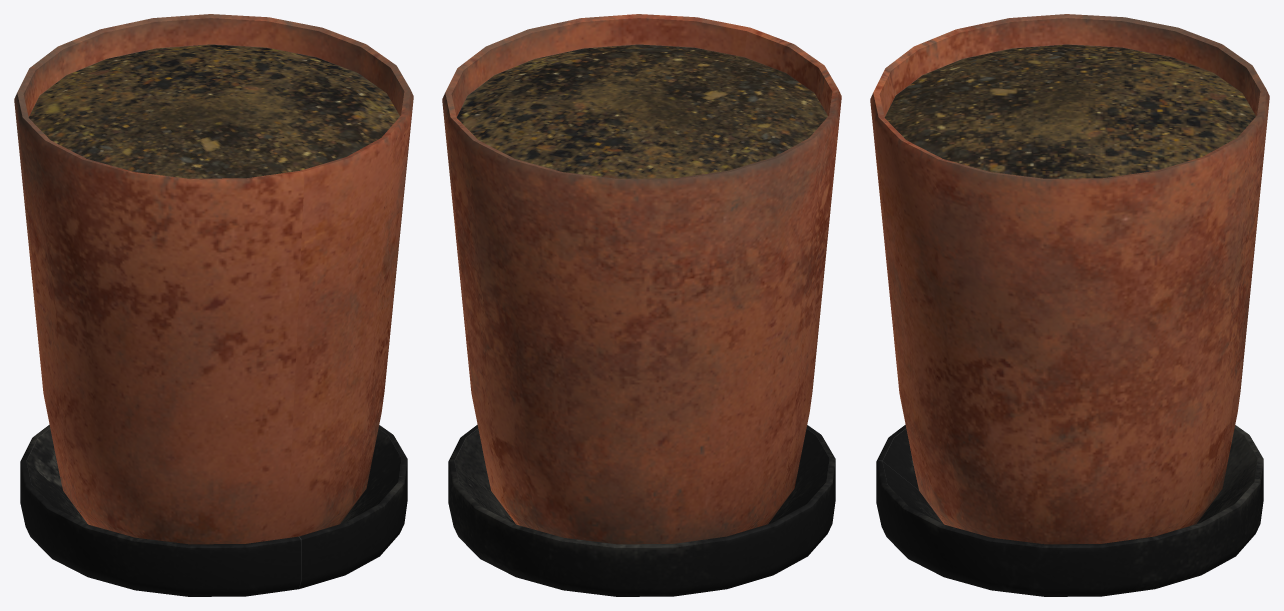
Rendered from Prop_Flowerpot.fbx.
3 views of the same model, side by side, from view 1: azimuth 30°, elevation 25°; view 2: azimuth 150°, elevation 25°; view 3: azimuth 270°, elevation 25° (orthographic).
Visible parts, largest first — view 1: Prop_Flowerpot; view 2: Prop_Flowerpot; view 3: Prop_Flowerpot.
Part boxes in pixels (x1,y1,x2,y2): Prop_Flowerpot: (14, 14, 413, 596); Prop_Flowerpot: (442, 14, 841, 596); Prop_Flowerpot: (870, 14, 1269, 596).
Bounding box in the file's own units: 20.92 × 24.5 × 20.95.
